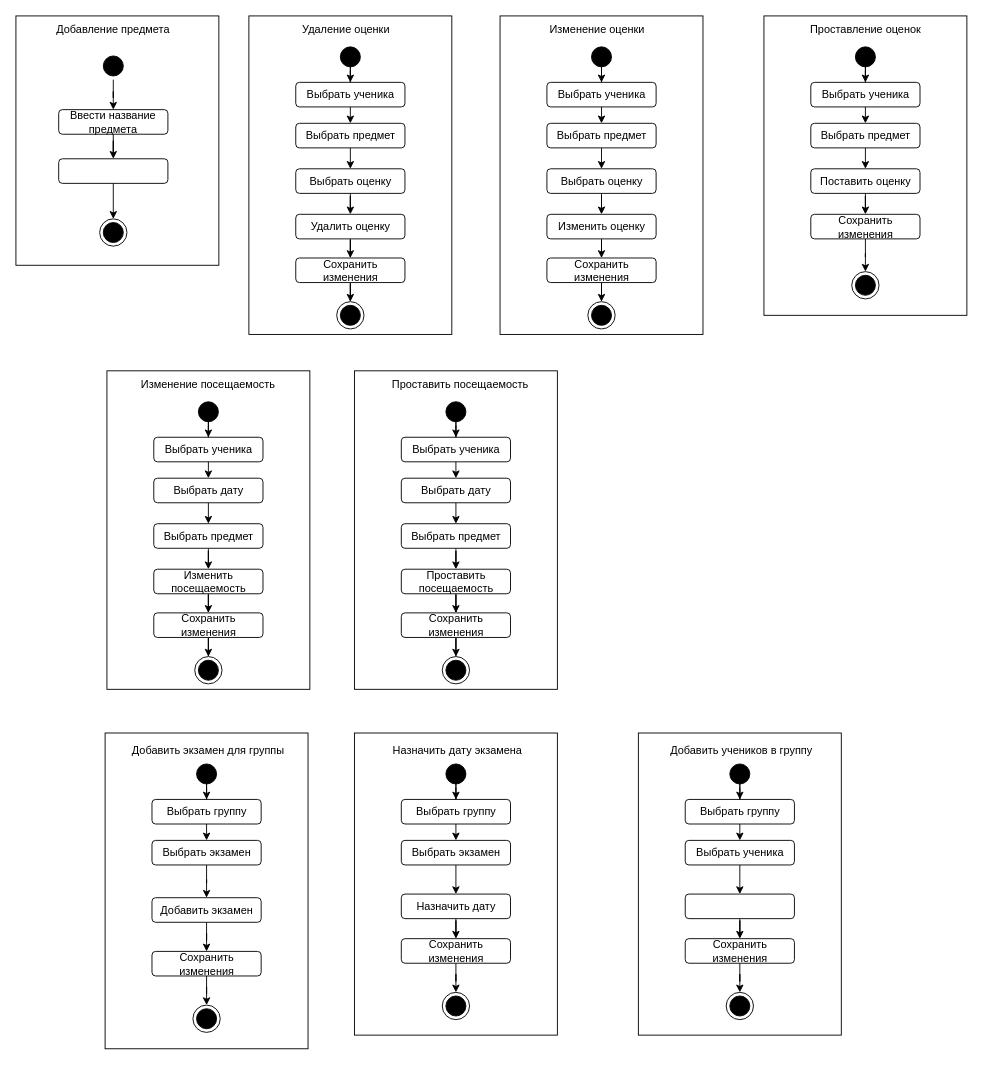
The diagram is 983 pixels wide and 1065 high, and some of its shapes have lost their labels. The shapes that lost their labels are listed below. From the top down, each one's centre as x and y in pixels, then its label:
At (x=113, y=170): "Сохранить данные".
At (x=739, y=906): "Добавить ученика".
